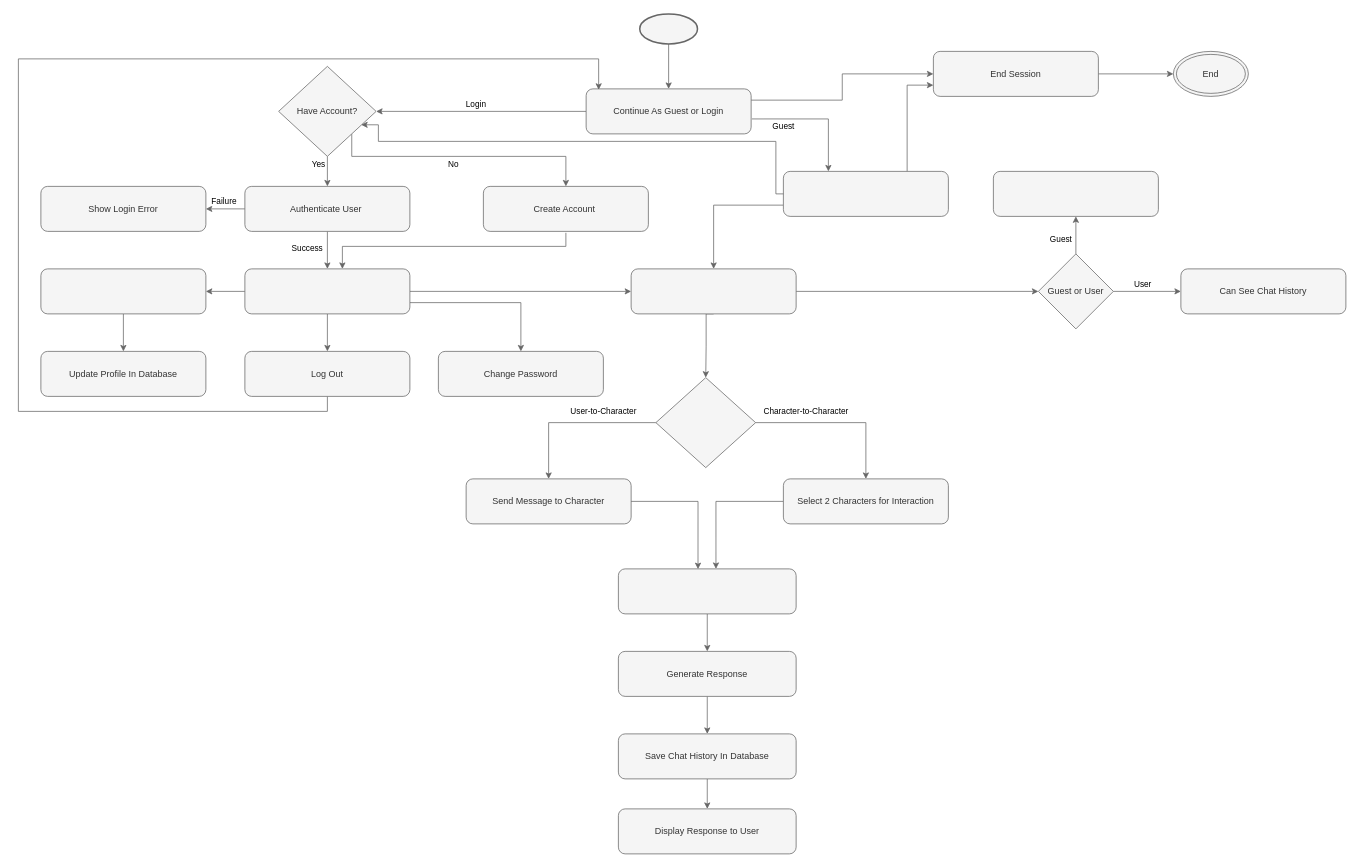
Image size: 1359x867. Some labels were removed from this diagram. The centre of each missing label's shape, as x and y in pixels:
"Chat Type" belongs at (x=705, y=422).
"Edit Custom Character" belongs at (x=123, y=291).
"Go to Dashboard" belongs at (x=327, y=291).
"Guest Mode (Has a Default Custom Character)" belongs at (x=865, y=193).
"No Chat History Available" belongs at (x=1075, y=193).
"Select Character" belongs at (x=713, y=291).
"Send Message to Character(s)" belongs at (x=707, y=591).
"Start" belongs at (x=668, y=28).
